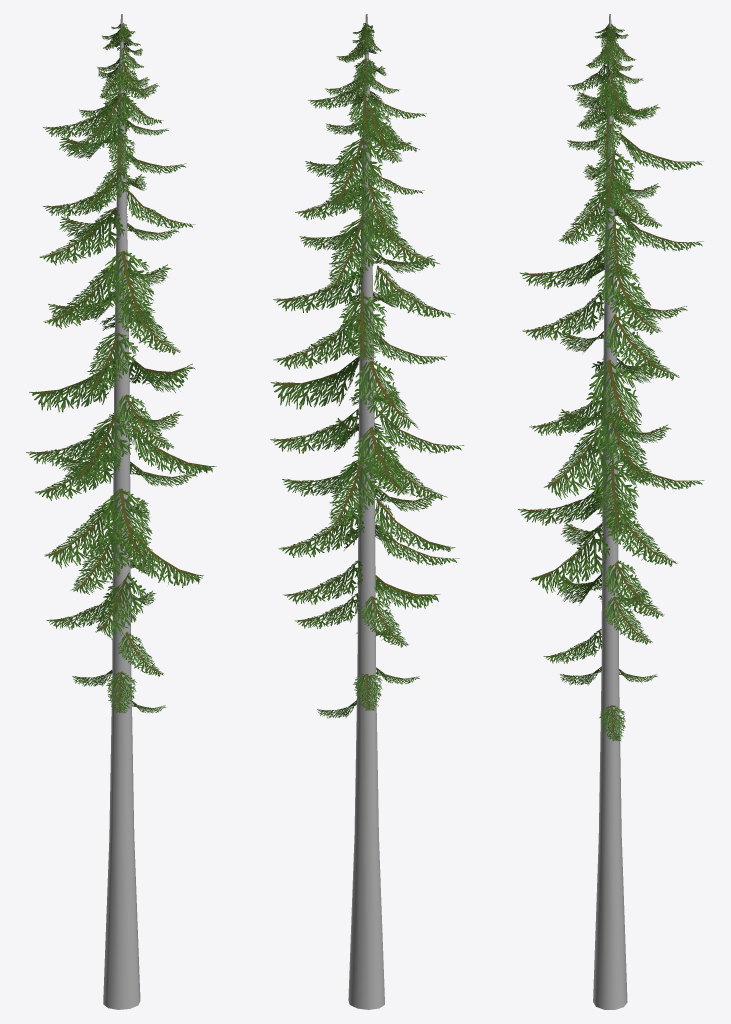
The model's file is WesternLarch.fbx.
The picture shows the model from 3 angles, left to right: view 1: azimuth 30°, elevation 25°; view 2: azimuth 150°, elevation 25°; view 3: azimuth 270°, elevation 25°; orthographic projection.
Visible parts, largest first — view 1: Cylinder, folhas pinheiro111.009, folhas pinheiro111.026, folhas pinheiro111.016, folhas pinheiro111.008, folhas pinheiro111.020, folhas pinheiro111.027, folhas pinheiro111.003, folhas pinheiro111.025, folhas pinheiro111.005, folhas pinheiro111.017, folhas pinheiro111.019 (+18 smaller); view 2: Cylinder, folhas pinheiro111.035, folhas pinheiro111.019, folhas pinheiro111.028, folhas pinheiro111.011, folhas pinheiro111.022, folhas pinheiro111.014, folhas pinheiro111.018, folhas pinheiro111.021, folhas pinheiro111.007, folhas pinheiro111.031, folhas pinheiro111.015 (+20 smaller); view 3: Cylinder, folhas pinheiro111.018, folhas pinheiro111.013, folhas pinheiro111.024, folhas pinheiro111.012, folhas pinheiro111.015, folhas pinheiro111.006, folhas pinheiro111.021, folhas pinheiro111.004, folhas pinheiro111.036, folhas pinheiro111.029, folhas pinheiro111.007 (+18 smaller).
Boxes of the visible parts, left/top/right/bottom form: Cylinder: left=103, top=14, right=140, bottom=1009; folhas pinheiro111.009: left=98, top=488, right=152, bottom=561; folhas pinheiro111.026: left=100, top=250, right=155, bottom=322; folhas pinheiro111.016: left=68, top=414, right=135, bottom=484; folhas pinheiro111.008: left=44, top=500, right=122, bottom=568; folhas pinheiro111.020: left=85, top=332, right=138, bottom=393; folhas pinheiro111.027: left=39, top=207, right=124, bottom=265; folhas pinheiro111.003: left=95, top=572, right=146, bottom=640; folhas pinheiro111.025: left=43, top=267, right=124, bottom=329; folhas pinheiro111.005: left=70, top=529, right=134, bottom=594; folhas pinheiro111.017: left=114, top=394, right=173, bottom=450; folhas pinheiro111.019: left=29, top=360, right=115, bottom=412; Cylinder: left=348, top=14, right=384, bottom=1009; folhas pinheiro111.035: left=328, top=138, right=385, bottom=207; folhas pinheiro111.019: left=353, top=360, right=419, bottom=430; folhas pinheiro111.028: left=327, top=217, right=383, bottom=287; folhas pinheiro111.011: left=328, top=457, right=384, bottom=527; folhas pinheiro111.022: left=339, top=293, right=386, bottom=360; folhas pinheiro111.014: left=352, top=427, right=410, bottom=495; folhas pinheiro111.018: left=270, top=357, right=359, bottom=409; folhas pinheiro111.021: left=273, top=313, right=361, bottom=369; folhas pinheiro111.007: left=278, top=505, right=364, bottom=557; folhas pinheiro111.031: left=354, top=184, right=401, bottom=242; folhas pinheiro111.015: left=270, top=408, right=359, bottom=453; Cylinder: left=593, top=14, right=627, bottom=1009; folhas pinheiro111.018: left=586, top=359, right=644, bottom=442; folhas pinheiro111.013: left=544, top=427, right=614, bottom=499; folhas pinheiro111.024: left=596, top=264, right=662, bottom=334; folhas pinheiro111.012: left=588, top=465, right=638, bottom=533; folhas pinheiro111.015: left=591, top=412, right=655, bottom=482; folhas pinheiro111.006: left=530, top=527, right=610, bottom=593; folhas pinheiro111.021: left=604, top=314, right=679, bottom=380; folhas pinheiro111.004: left=603, top=560, right=664, bottom=618; folhas pinheiro111.036: left=593, top=150, right=634, bottom=208; folhas pinheiro111.029: left=594, top=219, right=636, bottom=277; folhas pinheiro111.007: left=606, top=505, right=677, bottom=566.
Bounding box in the file's own units: 445 × 2224 × 431.
